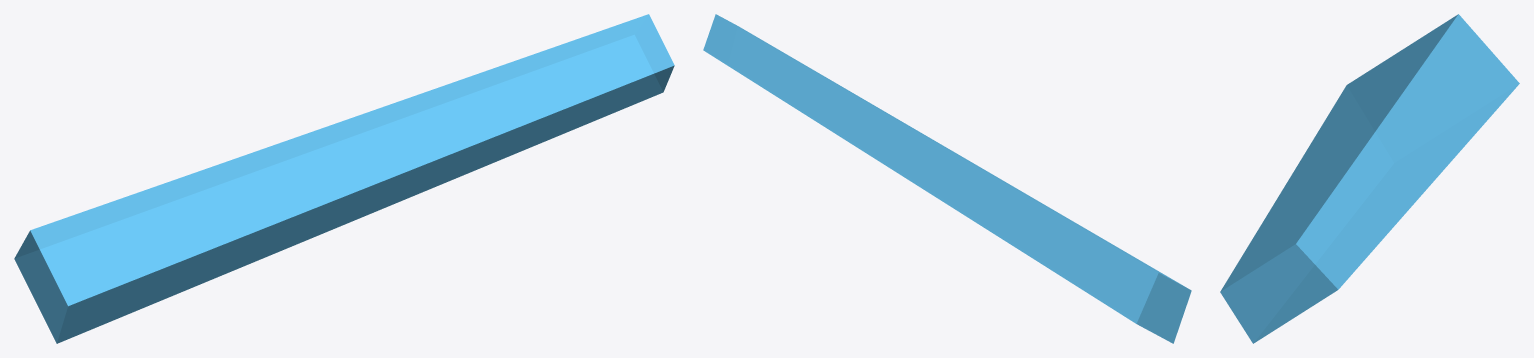
Rendered from Event_421115418_HErechit_13.fbx.
3 renders of one model, left to right at view 1: azimuth 30°, elevation 25°; view 2: azimuth 150°, elevation 25°; view 3: azimuth 270°, elevation 25°, orthographic. The views are drawn at different scales.
Visible parts, largest first — view 1: Model; view 2: Model; view 3: Model.
Part boxes in pixels (x1=…): Model: x1=14, y1=14, x2=674, y2=343; Model: x1=703, y1=14, x2=1191, y2=343; Model: x1=1220, y1=14, x2=1519, y2=343.
Size of the model in its own units: 4.85 by 1.79 by 1.51.
